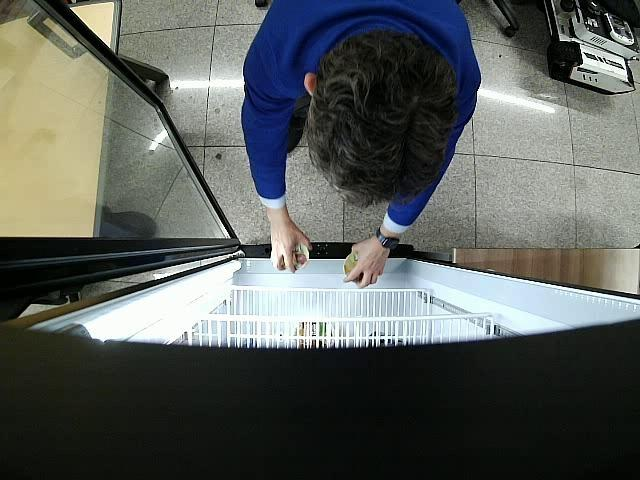04_chapagetti_S: (280, 244, 310, 270), (344, 250, 363, 283)
